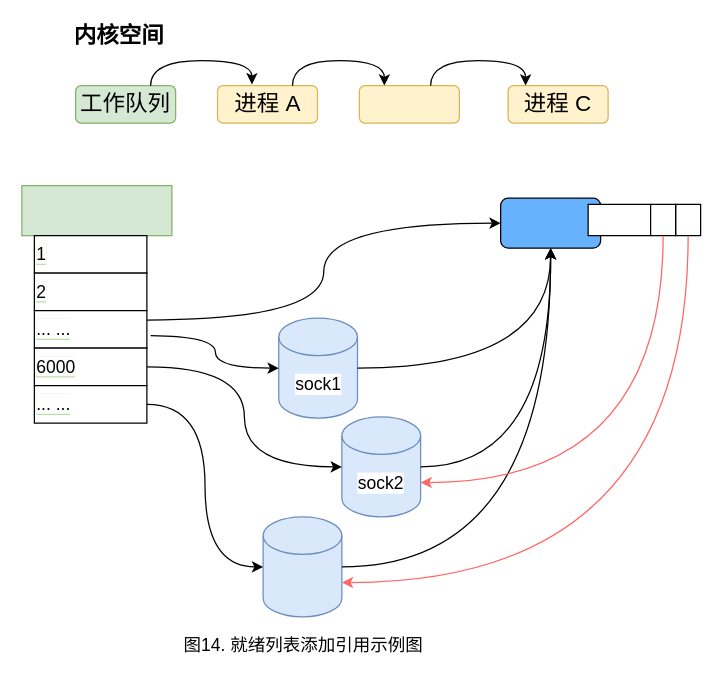
The diagram is 723 pixels wide and 685 high, and some of its shapes have lost their labels. Each missing label, with the centre of its shape:
eventpoll: point 550,222
rdlist: point 619,219
sock3: point 302,566
文件列表(fd): point 96,210
进程 B: point 408,103
